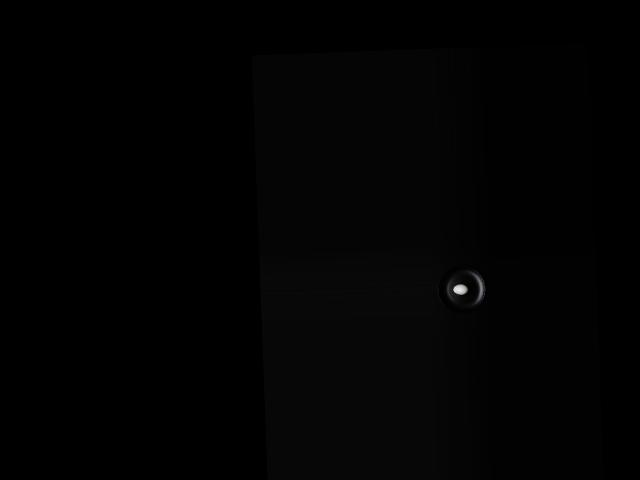egg: (453, 284, 468, 295)
